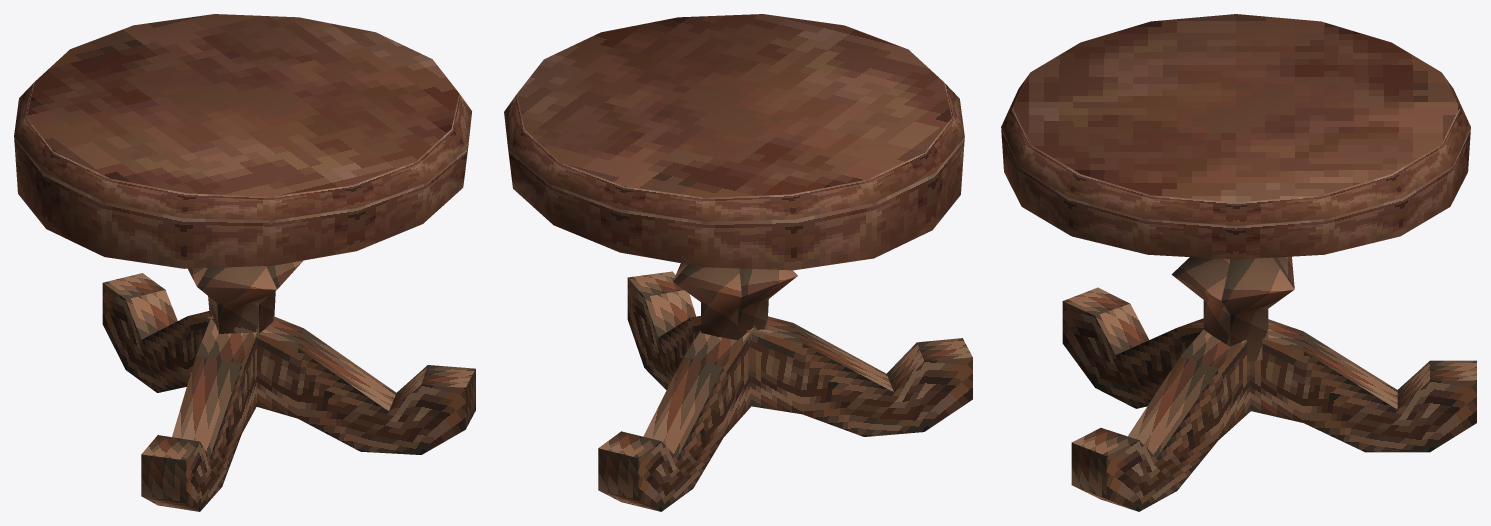
The model's file is otukue2.obj.
3 views of the same model, side by side, from view 1: azimuth 30°, elevation 25°; view 2: azimuth 150°, elevation 25°; view 3: azimuth 270°, elevation 25° (orthographic). The views are drawn at different scales.
Parts seen in each view (by area): view 1: part4_texture4.001, part3_texture3.001; view 2: part4_texture4.001, part3_texture3.001; view 3: part4_texture4.001, part3_texture3.001.
Part boxes in pixels (left/top/right/bottom): part4_texture4.001: left=14, top=14, right=471, bottom=268; part3_texture3.001: left=102, top=260, right=475, bottom=511; part4_texture4.001: left=504, top=14, right=964, bottom=270; part3_texture3.001: left=598, top=263, right=972, bottom=511; part4_texture4.001: left=1001, top=14, right=1470, bottom=259; part3_texture3.001: left=1062, top=256, right=1476, bottom=511.
Size of the model in its own units: 0.625 by 0.4922 by 0.6328.
Materials: 2 (2 with a texture image).
